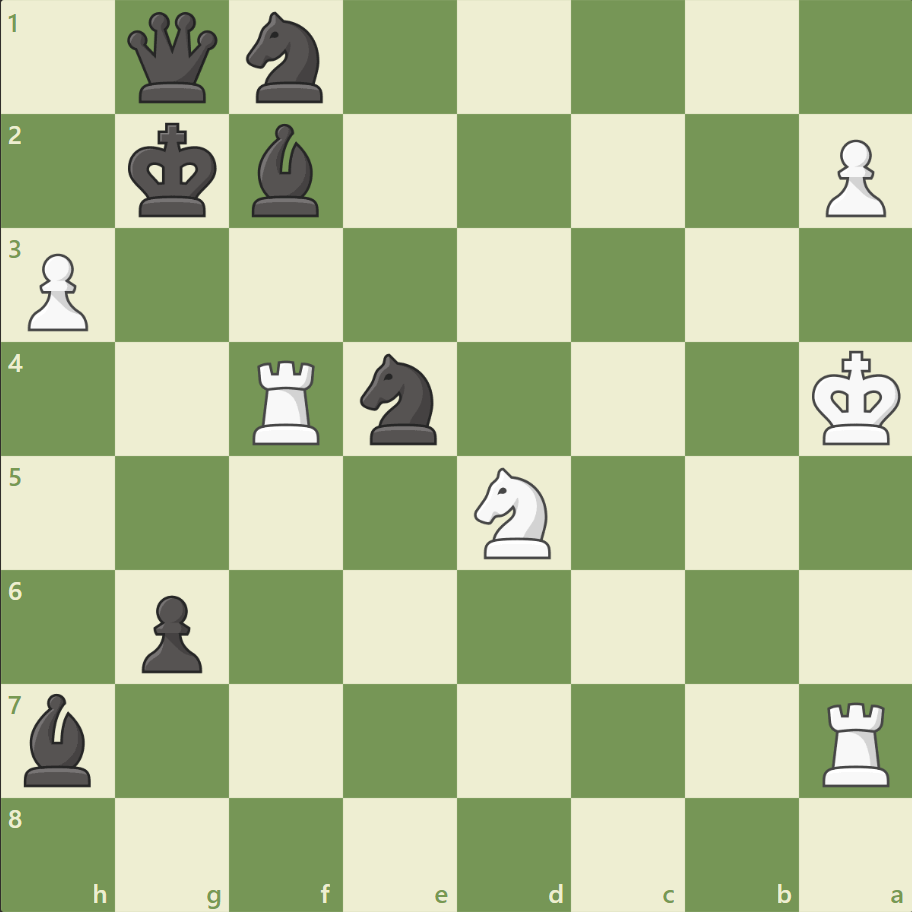K: (806, 344, 906, 452)
N: (465, 461, 562, 564)
P: (20, 246, 95, 337), (815, 132, 889, 223)
R: (814, 693, 897, 790), (246, 352, 329, 449)
b: (17, 687, 101, 790), (244, 120, 328, 222)
k: (124, 117, 224, 225)
n: (351, 348, 449, 450), (238, 7, 335, 110)
p: (133, 586, 208, 677)
q: (124, 9, 223, 108)
